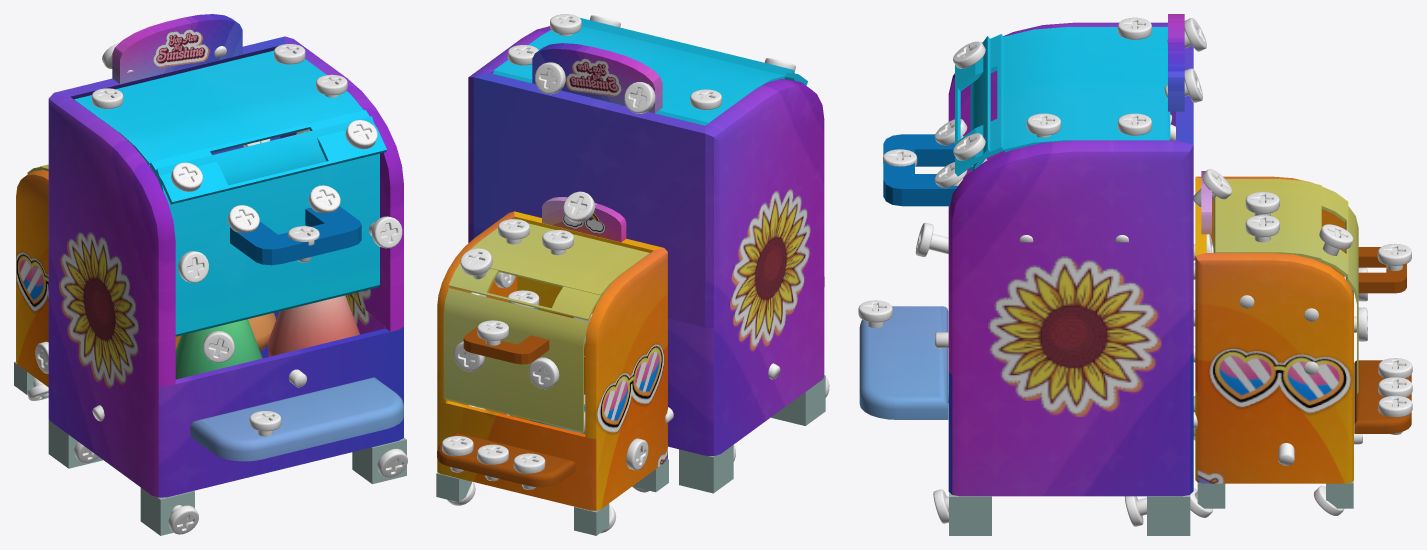
The model's file is lvl_71.fbx.
3 views of the same model, side by side, from view 1: azimuth 30°, elevation 25°; view 2: azimuth 150°, elevation 25°; view 3: azimuth 270°, elevation 25° (orthographic). The views are drawn at different scales.
Visible parts, largest first — view 1: cube_12, cube_4, cube_14, cube_2, cube_15, cube, cube_5, cube_11, cube_3, cube_29, cube_9, cube_38 (+22 smaller); view 2: cube_10, cube_12, cube_15, cube_20, cube_29, cube_2, cube_32, cube_22, cube_16, cube_35, cube_5, cube_18 (+29 smaller); view 3: cube_11, cube_17, cube_30, cube_2, cube_33, cube, cube_22, cube_9, cube_3, cube_18, cube_12, cube_7 (+21 smaller).
Part boxes in pixels (bbox=[...]): cube_12: bbox=[48, 93, 175, 386]; cube_4: bbox=[156, 116, 379, 336]; cube_14: bbox=[158, 327, 403, 497]; cube_2: bbox=[74, 50, 363, 165]; cube_15: bbox=[48, 290, 158, 497]; cube: bbox=[190, 377, 403, 461]; cube_5: bbox=[112, 14, 242, 83]; cube_11: bbox=[280, 36, 403, 331]; cube_3: bbox=[149, 110, 386, 204]; cube_29: bbox=[16, 170, 48, 309]; cube_9: bbox=[230, 206, 361, 265]; cube_38: bbox=[267, 295, 359, 356]; cube_10: bbox=[473, 73, 705, 327]; cube_12: bbox=[705, 79, 824, 327]; cube_15: bbox=[714, 265, 824, 455]; cube_20: bbox=[443, 288, 588, 432]; cube_29: bbox=[585, 248, 667, 438]; cube_2: bbox=[493, 26, 785, 125]; cube_32: bbox=[437, 400, 596, 510]; cube_22: bbox=[470, 219, 649, 295]; cube_16: bbox=[668, 318, 713, 456]; cube_35: bbox=[596, 376, 667, 510]; cube_5: bbox=[532, 43, 662, 113]; cube_18: bbox=[437, 432, 575, 487]; cube_11: bbox=[948, 140, 1193, 375]; cube_17: bbox=[952, 357, 1189, 496]; cube_30: bbox=[1195, 253, 1353, 405]; cube_2: bbox=[1003, 27, 1170, 152]; cube_33: bbox=[1197, 393, 1351, 483]; cube: bbox=[859, 306, 948, 419]; cube_22: bbox=[1213, 179, 1321, 260]; cube_9: bbox=[883, 134, 957, 206]; cube_3: bbox=[955, 34, 1003, 176]; cube_18: bbox=[1354, 360, 1411, 433]; cube_12: bbox=[948, 22, 1175, 210]; cube_7: bbox=[1147, 495, 1190, 535].
Size of the model in its own units: 6.6 by 10.11 by 11.33.
